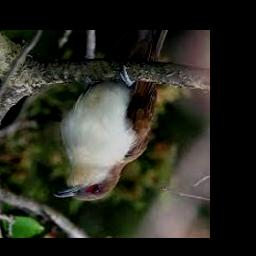Cuckoo: (53, 31, 168, 201)
